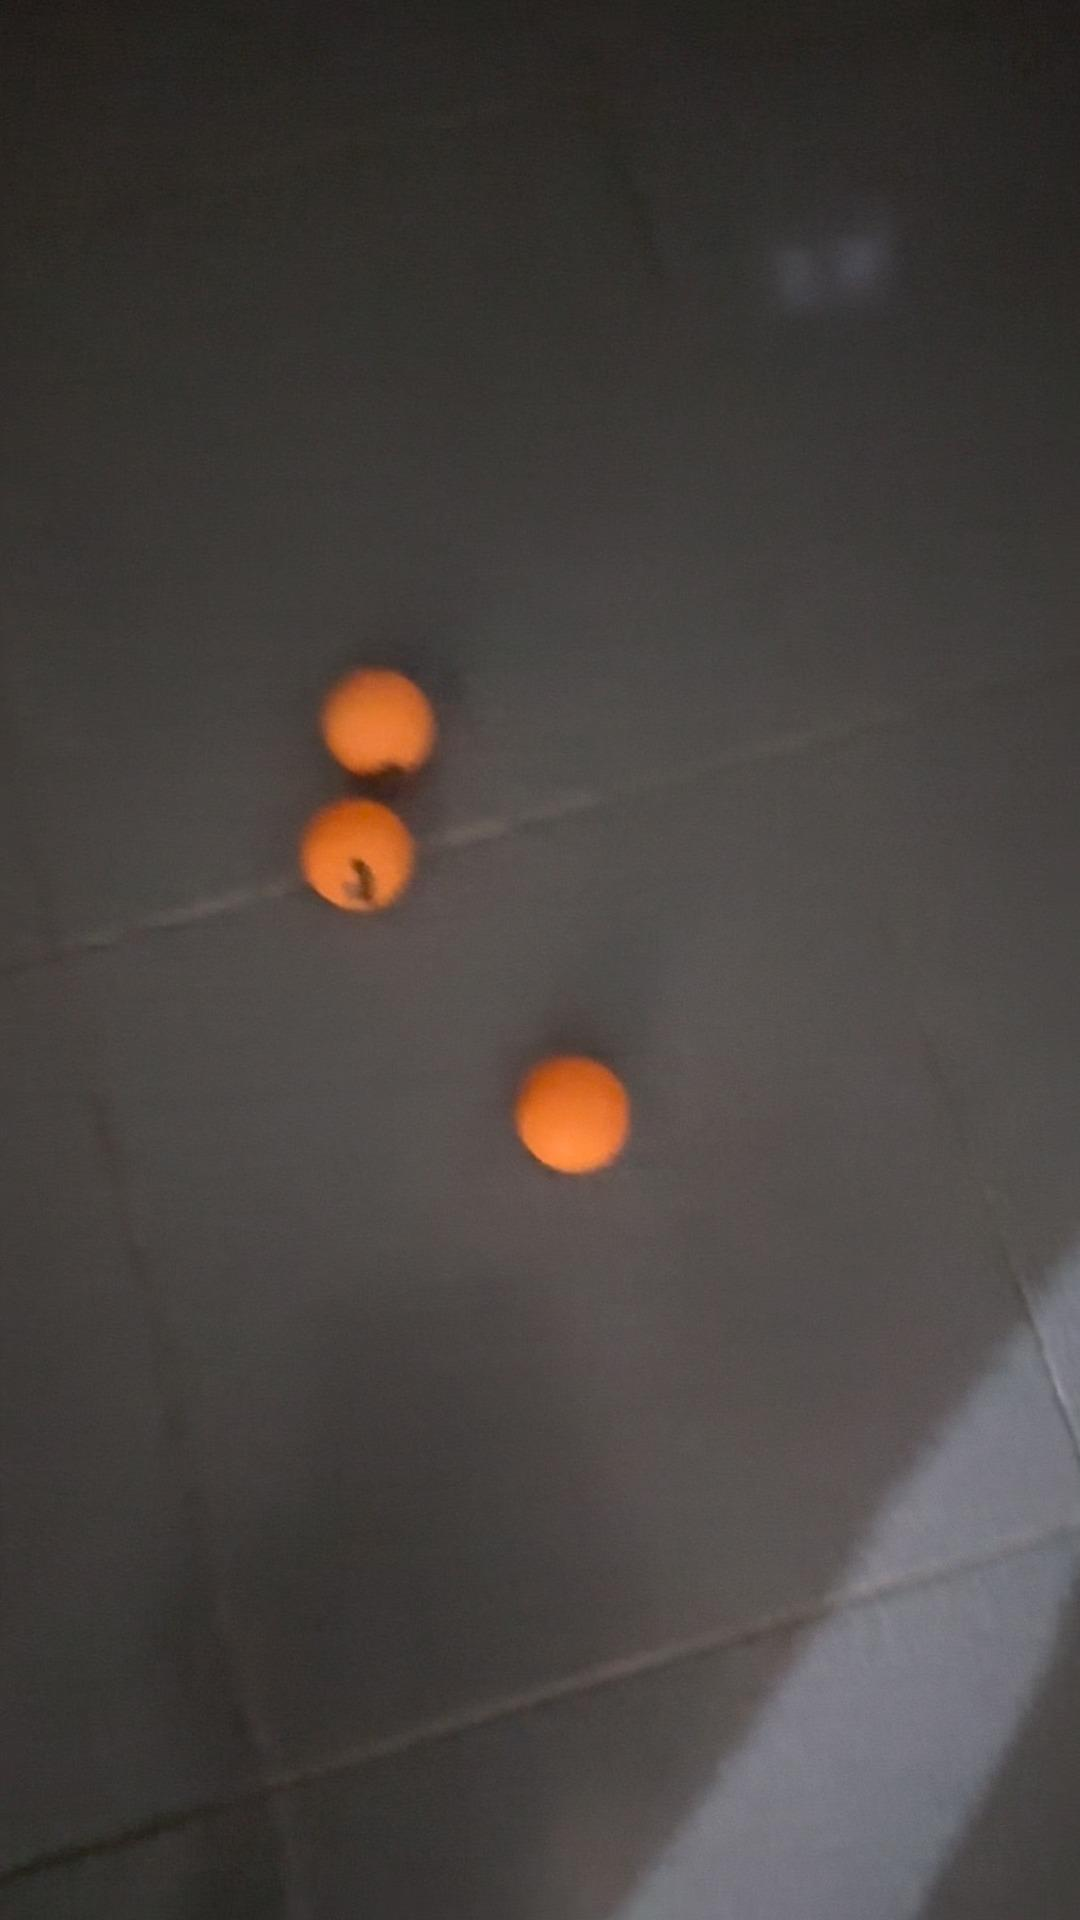oball: (287, 781, 430, 924), (322, 661, 452, 782), (518, 1048, 630, 1182)
